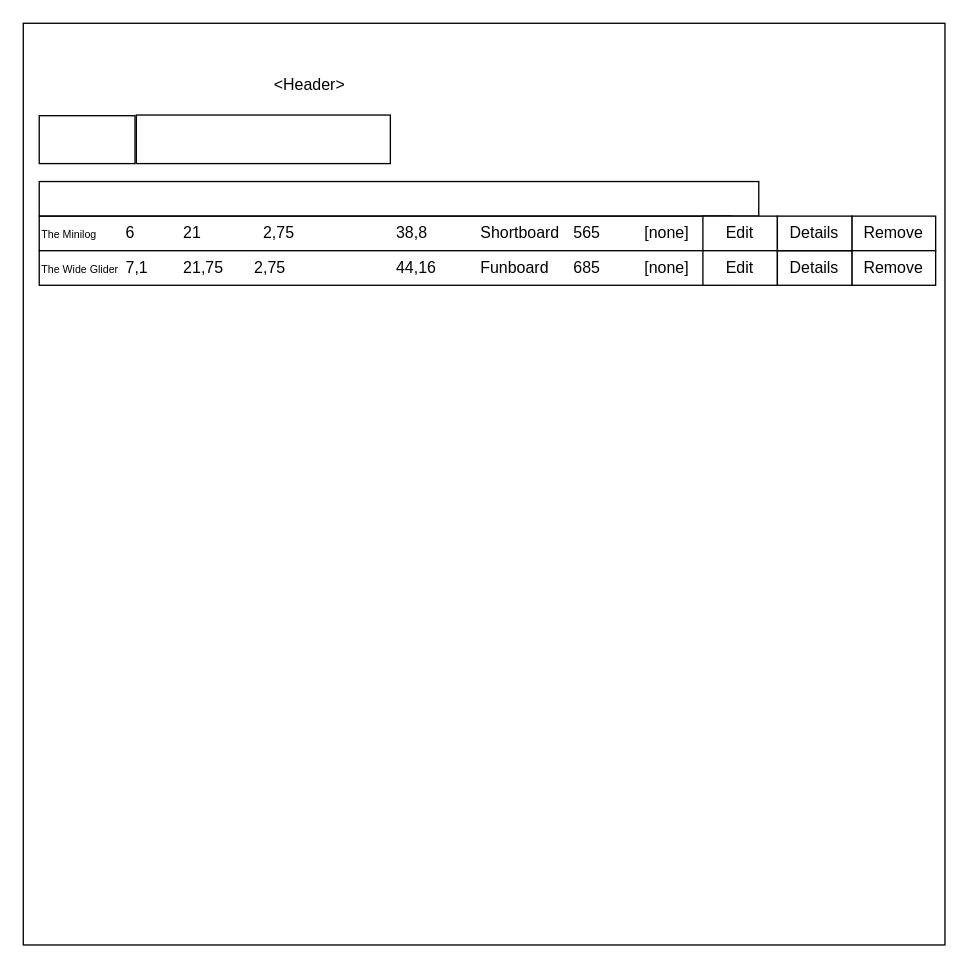
Some shapes in this 968 by 968 pixel diagram are drawn without their labels. The box of each missing label's shape, as (x1, y1, x2, y2) in pixels:
Create Board: (38, 114, 135, 164)
Name: Length: Width: Thickness: Volume: Type: Price: Equipment (Optional) :: (38, 180, 759, 216)
Search: (135, 114, 390, 164)
